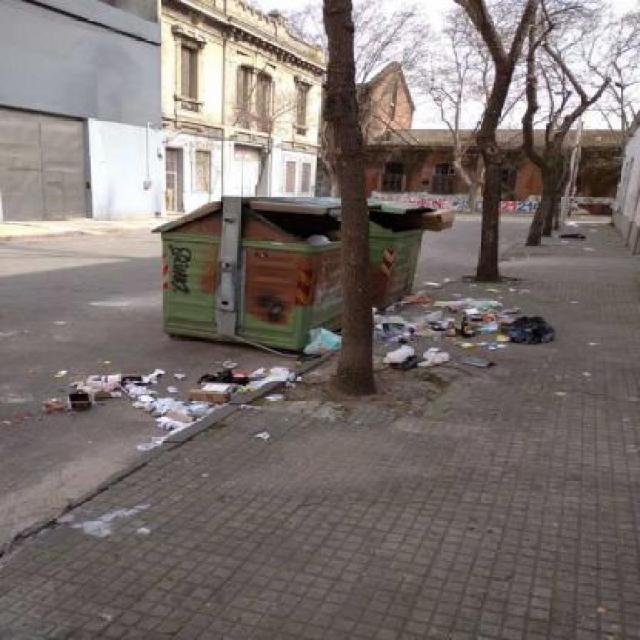garbage: (351, 252, 591, 416), (19, 331, 283, 458), (295, 325, 348, 372)
